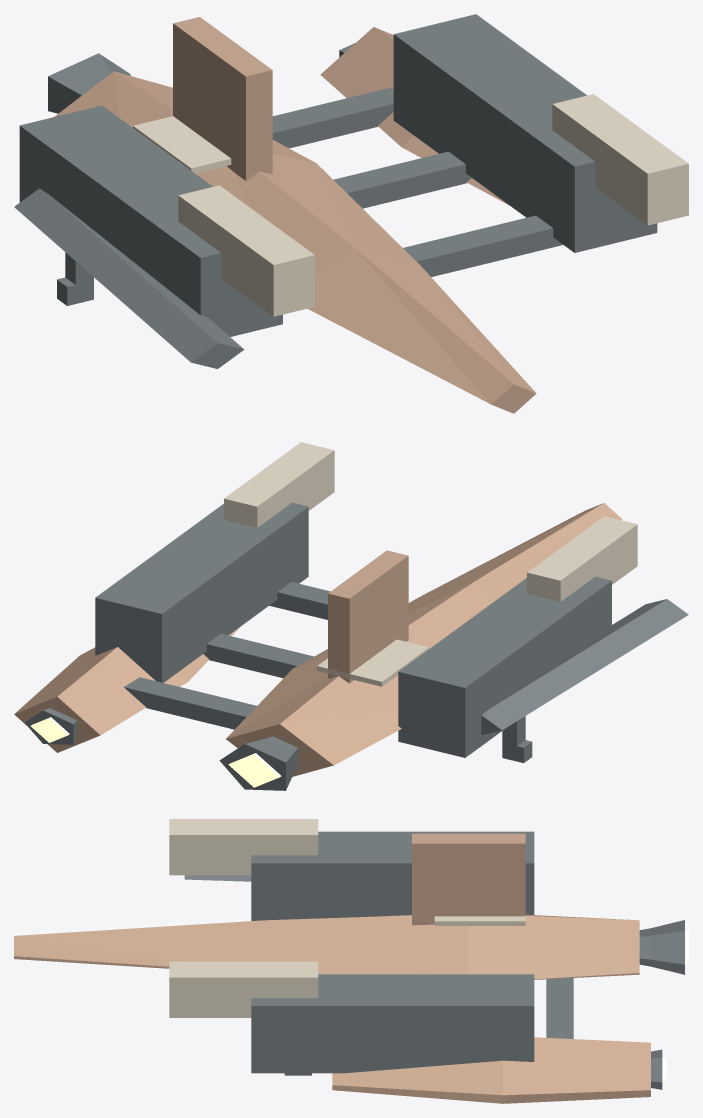
3 views of the same model, one above another, from view 1: azimuth 30°, elevation 25°; view 2: azimuth 150°, elevation 25°; view 3: azimuth 270°, elevation 25° (orthographic). The views are drawn at different scales.
Bounding box in the file's own units: 13.28 × 4.84 × 18.13.
